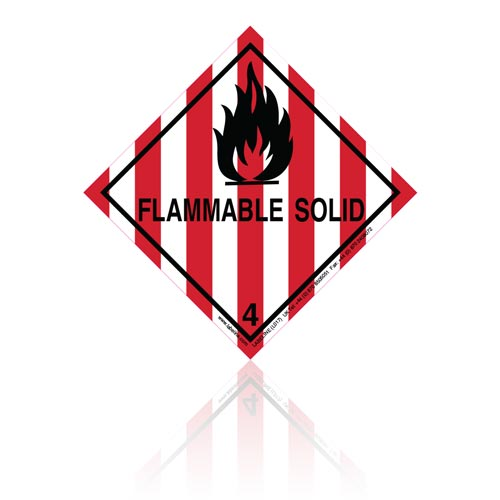FlammableSolid: (102, 44, 414, 344)
